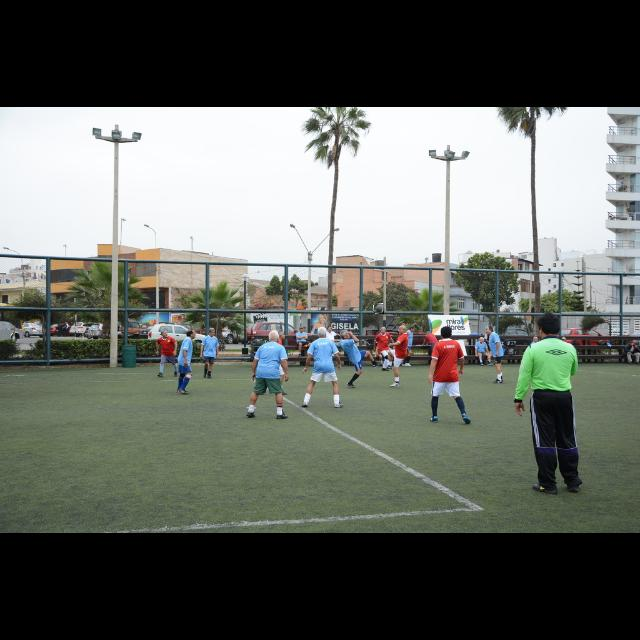Football: (374, 304, 384, 314)
